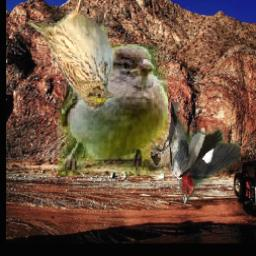Sparrow: (59, 45, 169, 177), (28, 0, 117, 112)
Woodpecker: (152, 103, 242, 205)
